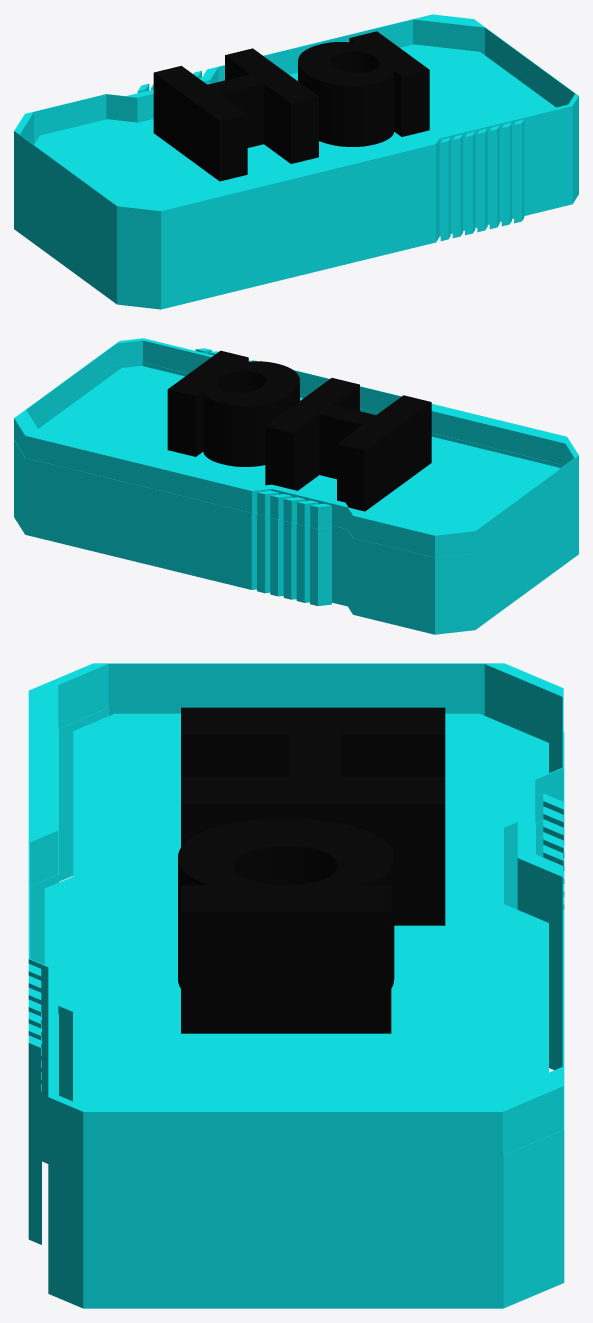
Rendered from 1.HurufHa.glb.
3 views of the same model, one above another, from view 1: azimuth 30°, elevation 25°; view 2: azimuth 150°, elevation 25°; view 3: azimuth 270°, elevation 25° (orthographic). The views are drawn at different scales.
Visible parts, largest first — view 1: Curve.024, Curve.018, Curve.032, Curve.033, Curve.025, Curve.028, Curve.029, Curve.027, Curve.031, Curve.026, Curve.030; view 2: Curve.024, Curve.018, Curve.032, Curve.033, Curve.023, Curve.021, Curve.020, Curve.022, Curve.019; view 3: Curve.024, Curve.018, Curve.033, Curve.032, Curve.031.
Part boxes in pixels (x1,y1,x2,y2): Curve.024: (14, 14, 578, 309); Curve.018: (34, 44, 555, 206); Curve.032: (153, 48, 318, 181); Curve.033: (298, 31, 429, 146); Curve.025: (440, 137, 450, 241); Curve.028: (477, 128, 487, 232); Curve.029: (489, 125, 499, 229); Curve.027: (465, 131, 475, 235); Curve.031: (514, 119, 524, 223); Curve.026: (452, 134, 462, 238); Curve.030: (501, 122, 511, 226); Curve.024: (14, 338, 578, 634); Curve.018: (38, 365, 559, 533); Curve.032: (265, 378, 431, 511); Curve.033: (167, 350, 299, 466); Curve.023: (310, 503, 331, 605); Curve.021: (283, 497, 305, 599); Curve.020: (270, 494, 292, 596); Curve.022: (296, 500, 318, 602); Curve.019: (257, 491, 278, 593); Curve.024: (28, 663, 564, 1308); Curve.018: (44, 713, 548, 1111); Curve.033: (178, 818, 394, 1033); Curve.032: (181, 707, 445, 925); Curve.031: (28, 1035, 41, 1244).
Size of the model in its own units: 0.2966 by 0.0846 by 0.1498.
